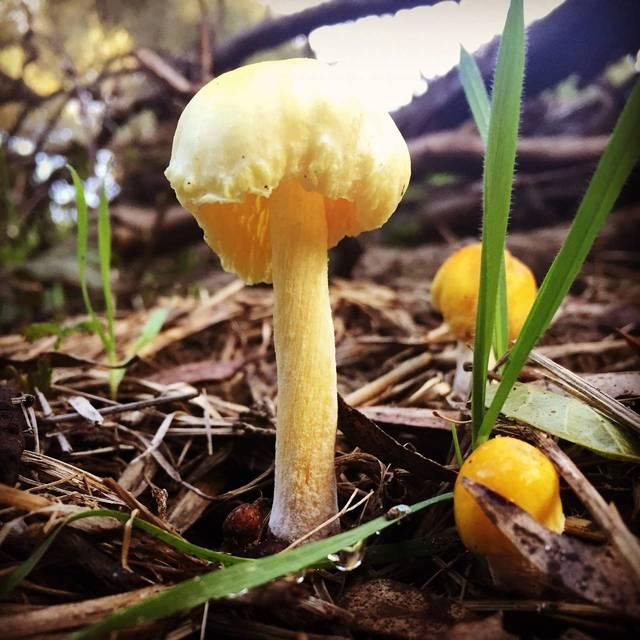edible_mushroom: (163, 55, 412, 547)
